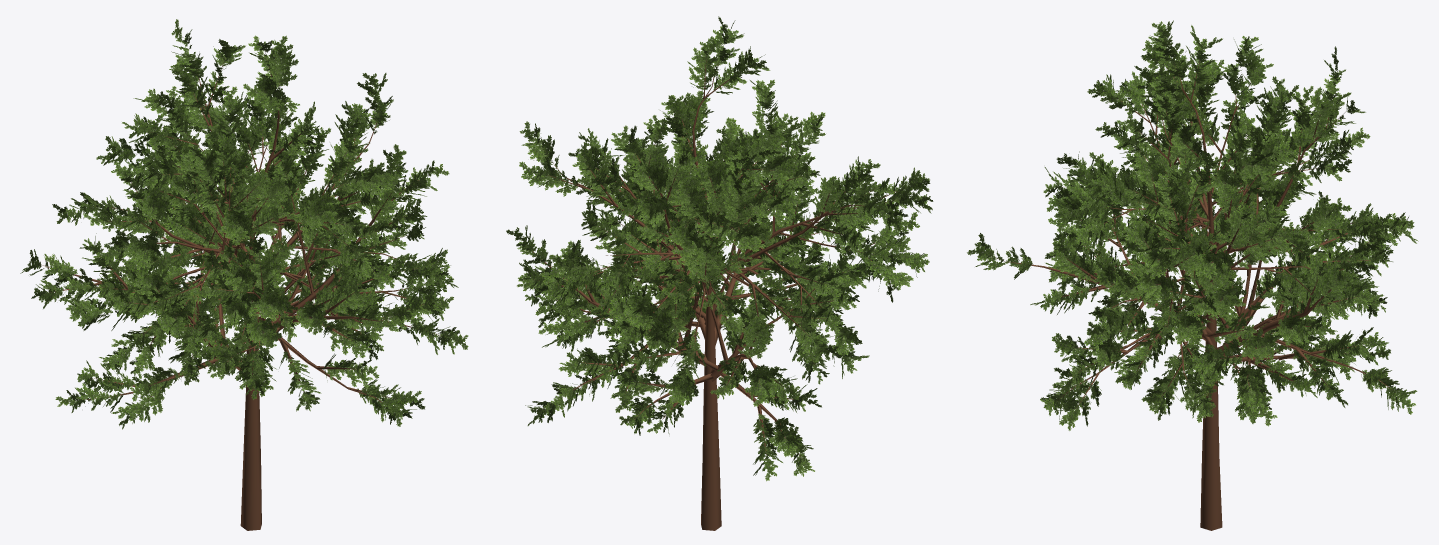
Rendered from tree2_lod1.glb.
3 views of the same model, side by side, from view 1: azimuth 30°, elevation 25°; view 2: azimuth 150°, elevation 25°; view 3: azimuth 270°, elevation 25° (orthographic). The views are drawn at different scales.
Parts seen in each view (by area): view 1: leaves, trunk; view 2: leaves, trunk; view 3: leaves, trunk.
Part boxes in pixels (<box>): leaves: <box>20,19,468,429</box>; trunk: <box>42,58,440,530</box>; leaves: <box>506,16,933,481</box>; trunk: <box>533,59,896,530</box>; leaves: <box>967,20,1418,430</box>; trunk: <box>997,49,1389,530</box>.
Bounding box in the file's own units: 0.8208 × 1 × 0.8176.
2 materials, 1 textured.
